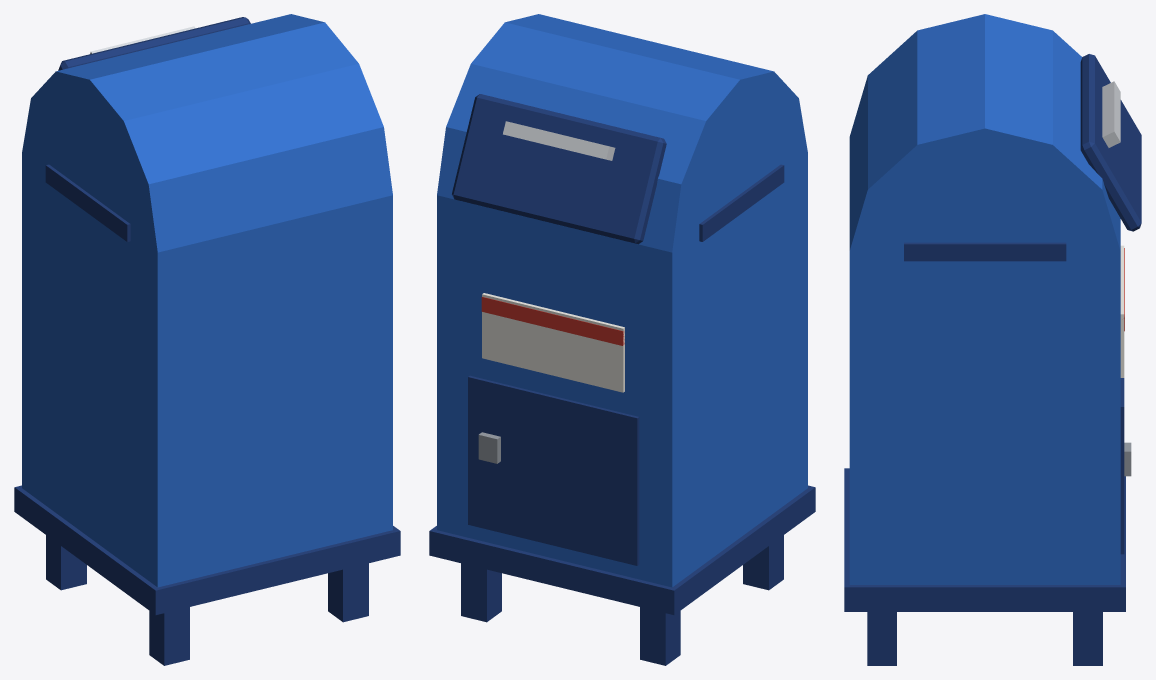
File: prop_mailbox.glb
3 views of the same model, side by side, from view 1: azimuth 30°, elevation 25°; view 2: azimuth 150°, elevation 25°; view 3: azimuth 270°, elevation 25° (orthographic).
Visible parts, largest first — view 1: prop_mailbox__mesh; view 2: prop_mailbox__mesh; view 3: prop_mailbox__mesh.
Boxes of the visible parts, left/top/right/bottom form: prop_mailbox__mesh: left=14, top=14, right=400, bottom=665; prop_mailbox__mesh: left=429, top=14, right=815, bottom=665; prop_mailbox__mesh: left=844, top=14, right=1141, bottom=665.
Bounding box in the file's own units: 0.52 × 1.11 × 0.5491.
Materials: 1 (1 with a texture image).
